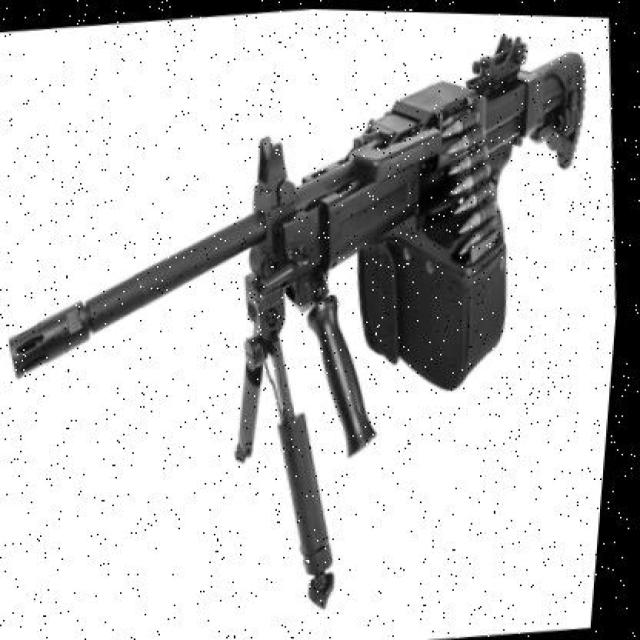weapon: (8, 29, 586, 614)
